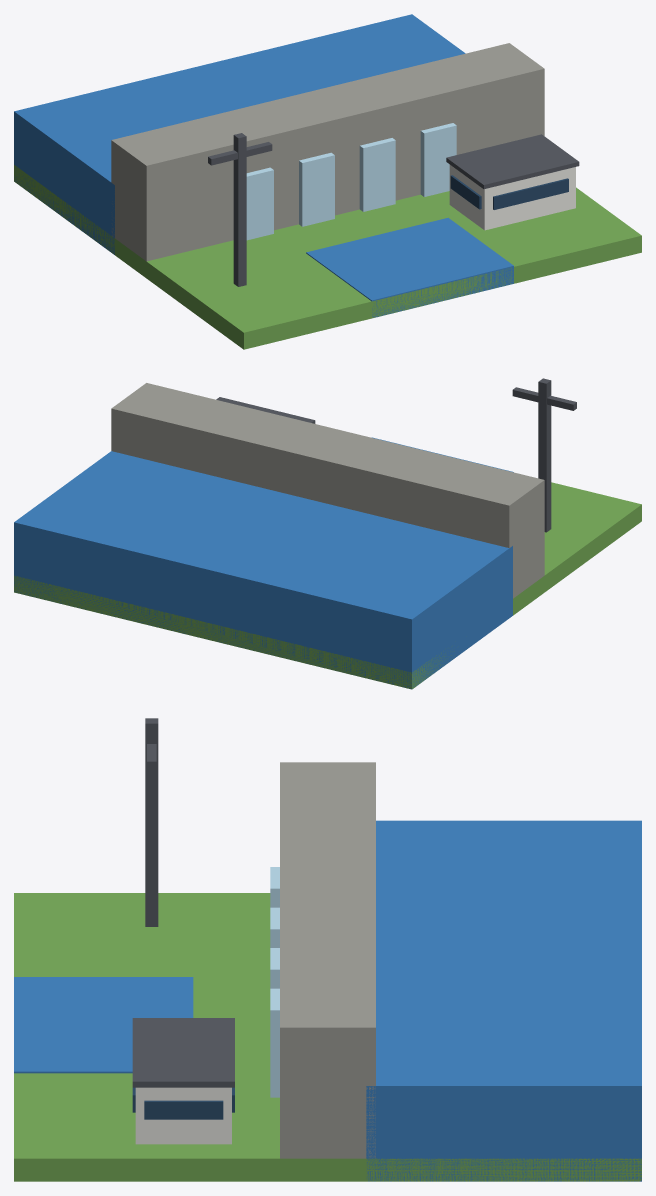
Rendered from hydro.glb.
3 renders of one model, top to bottom at view 1: azimuth 30°, elevation 25°; view 2: azimuth 150°, elevation 25°; view 3: azimuth 270°, elevation 25°, orthographic. The views are drawn at different scales.
Visible parts, largest first — view 1: hydro; view 2: hydro; view 3: hydro.
Boxes of the visible parts, x1=… form: hydro: x1=14, y1=14, x2=641, y2=349; hydro: x1=14, y1=378, x2=641, y2=689; hydro: x1=14, y1=718, x2=641, y2=1181.
Size of the model in its own units: 1.96 by 0.78 by 1.96.
